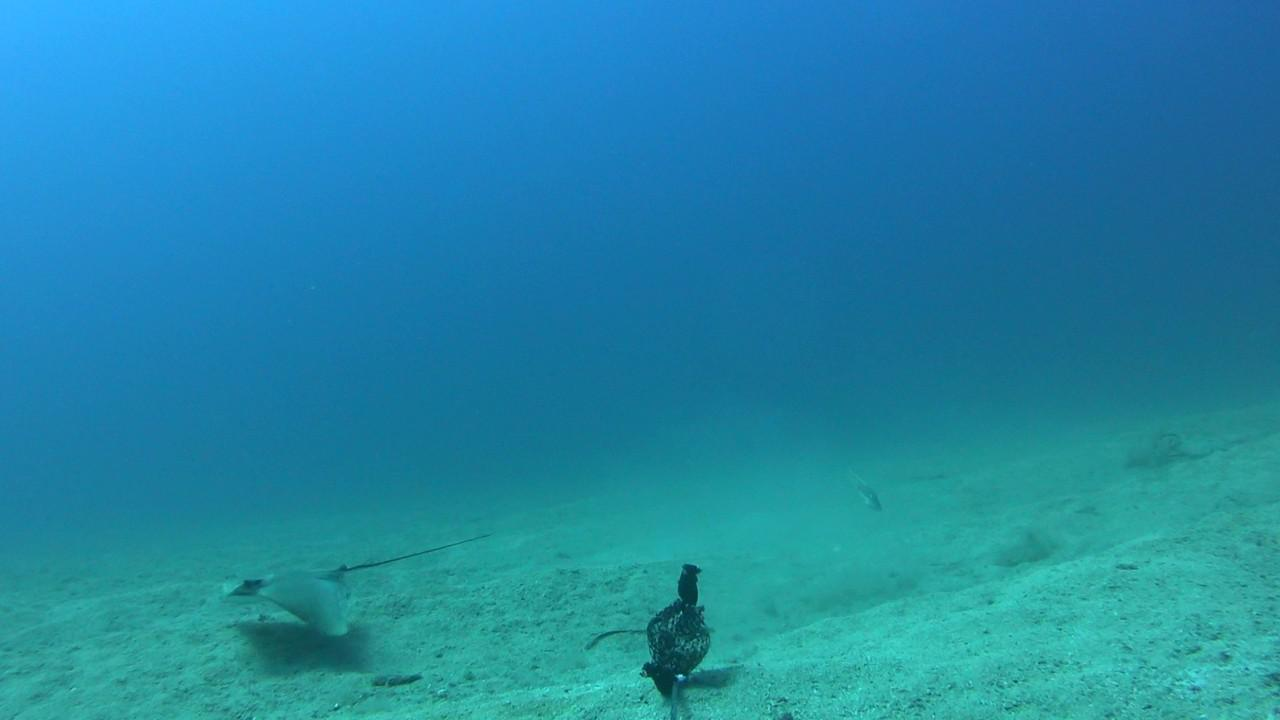myliobatis: (201, 518, 501, 639)
